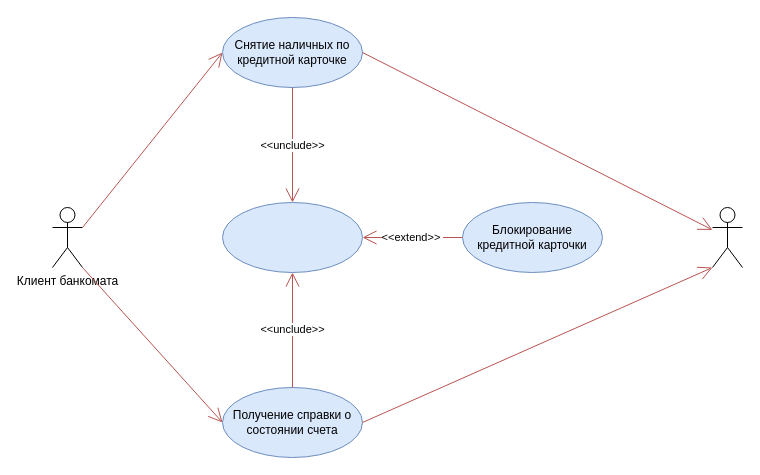
Image size: 760x475. Some labels were removed from this diagram. Each missing label, with the centre of its shape:
Банк: pixel 727 237
Проверка ПИН-кода: pixel 292 237
